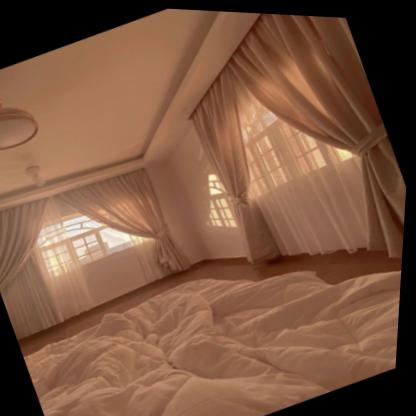Curtains: (191, 11, 408, 261), (0, 167, 186, 341)
